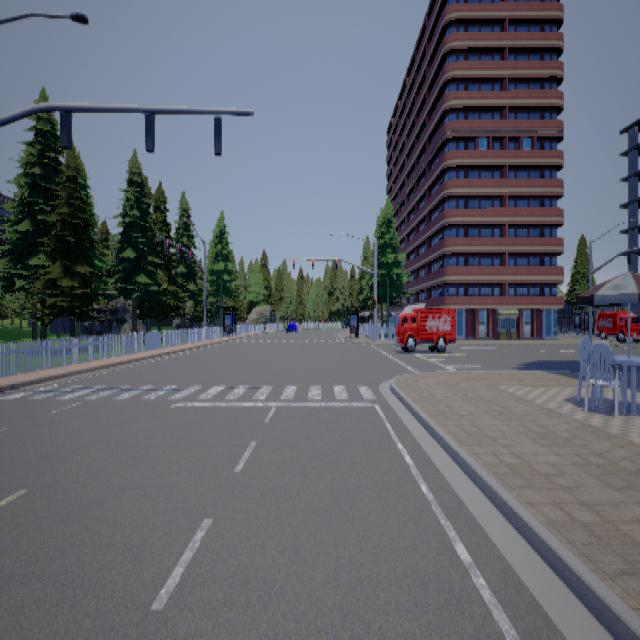red_light: (334, 258, 337, 268), (374, 296, 376, 306), (312, 258, 314, 268), (292, 259, 294, 269)
vehicle: (393, 307, 455, 352), (594, 310, 627, 342)
